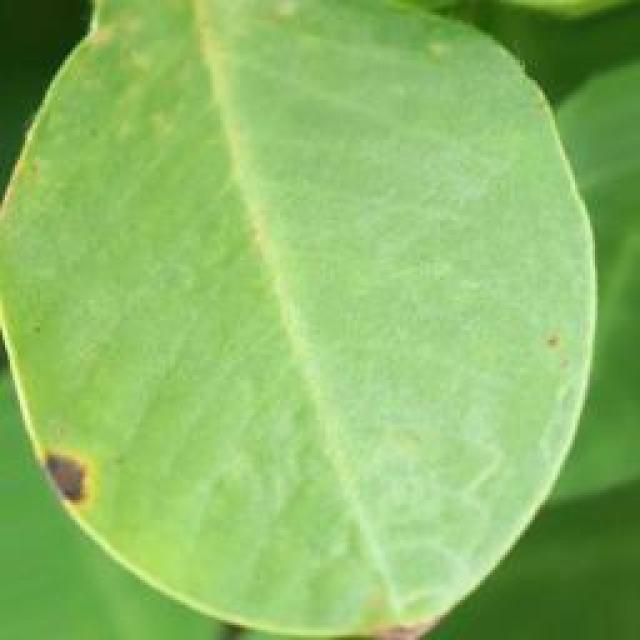Early_leaf_spot: (0, 408, 116, 526), (327, 568, 458, 640), (530, 300, 590, 407)
